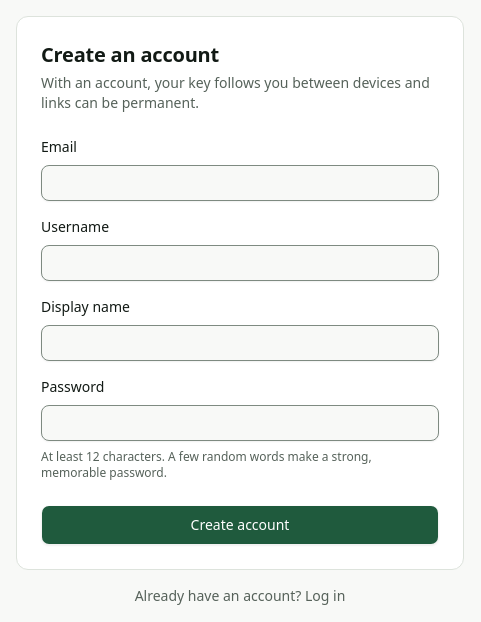
Test: RegisterPage › shows the recovery code once registration succeeds
Type "h@example.com" into the field labelled "Email".
click(240, 183); type("h@example.com")  # box [41,165,439,201]
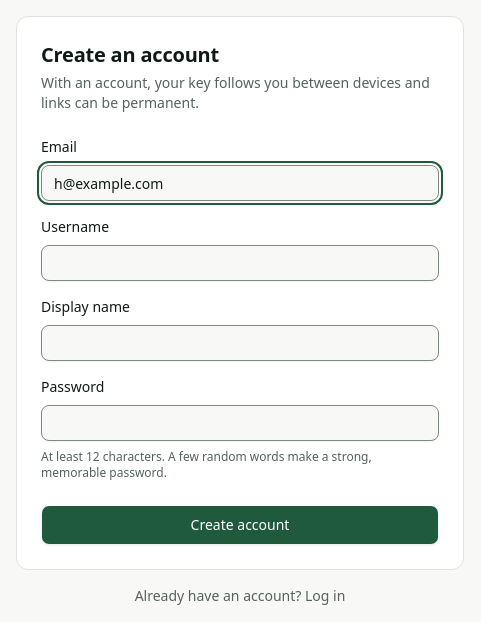
Type "hank" into the field labelled "Username".
click(240, 263); type("hank")  # box [41,245,439,281]
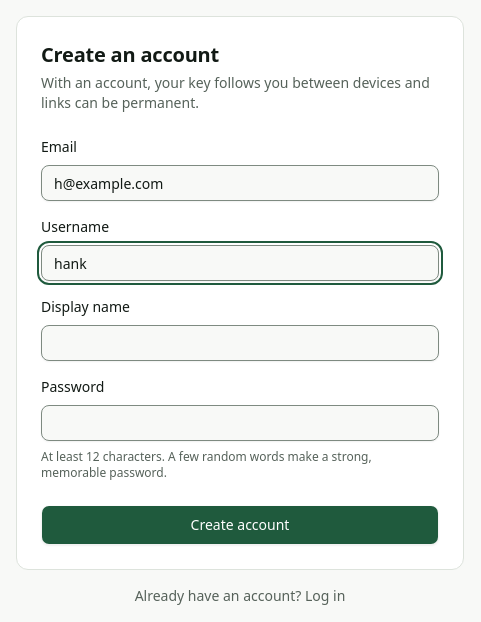
Type "Hank" into the field labelled "Display name".
click(240, 343); type("Hank")  # box [41,325,439,361]
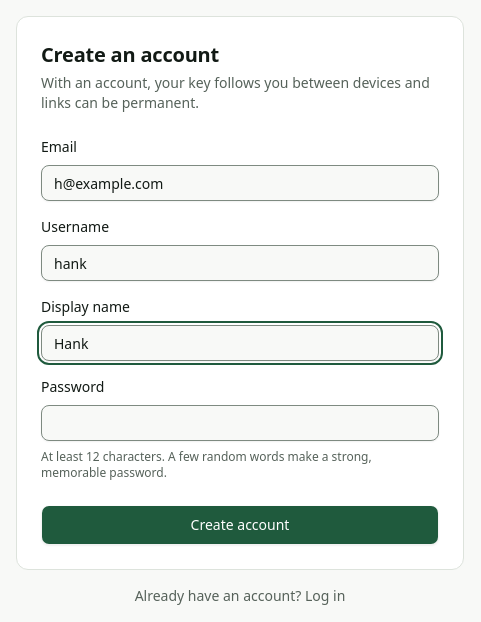
Type "correct horse battery staple" into the password field labelled "Password".
click(240, 423); type("correct horse battery staple")  # box [41,405,439,441]
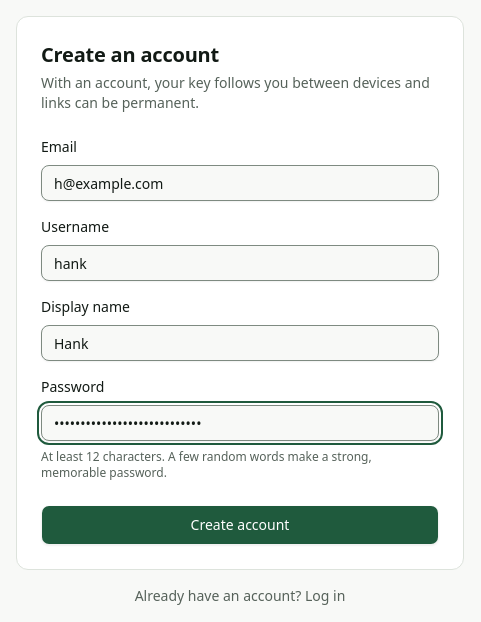
Click the button "Create account".
click(240, 525)  # box [41,505,439,545]
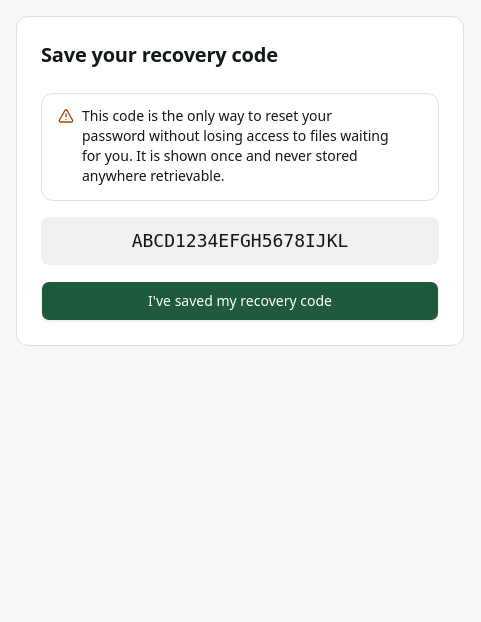
expect the text "ABCD1234EFGH5678IJKL" is shown: met, box [41,217,439,265]
